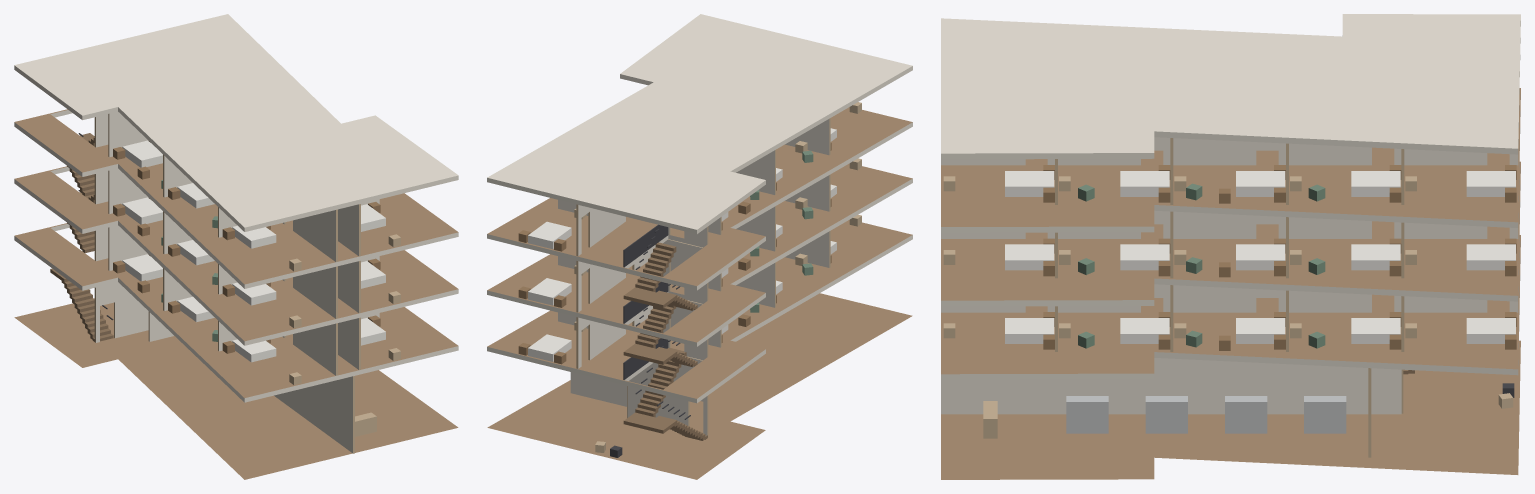
The model's file is interior.glb.
The picture shows the model from 3 angles, left to right: view 1: azimuth 30°, elevation 25°; view 2: azimuth 150°, elevation 25°; view 3: azimuth 270°, elevation 25°; orthographic projection. The views are drawn at different scales.
Visible parts, largest first — view 1: slabs, partitions, coarse-s1, coarse-s3, coarse-s2, stair; view 2: slabs, partitions, stair, coarse-s1, coarse-s2, coarse-s3; view 3: slabs, partitions, coarse-s2, coarse-s3, coarse-s1, coarse-s0.
Part boxes in pixels (box(x1,y1,x2,y2)): slabs: box(14, 14, 458, 479); partitions: box(94, 111, 379, 453); coarse-s1: box(113, 254, 400, 384); coarse-s3: box(113, 140, 400, 271); coarse-s2: box(113, 197, 400, 328); stair: box(50, 133, 113, 341); slabs: box(487, 14, 912, 479); partitions: box(558, 118, 830, 437); stair: box(623, 224, 707, 440); coarse-s1: box(518, 214, 861, 364); coarse-s2: box(518, 158, 861, 307); coarse-s3: box(518, 102, 861, 251); slabs: box(941, 14, 1520, 479); partitions: box(941, 137, 1518, 457); coarse-s2: box(943, 238, 1516, 277); coarse-s3: box(943, 165, 1516, 203); coarse-s1: box(943, 312, 1516, 350); coarse-s0: box(983, 383, 1514, 438).
Bounding box in the file's own units: 13.34 × 14.57 × 23.43.
